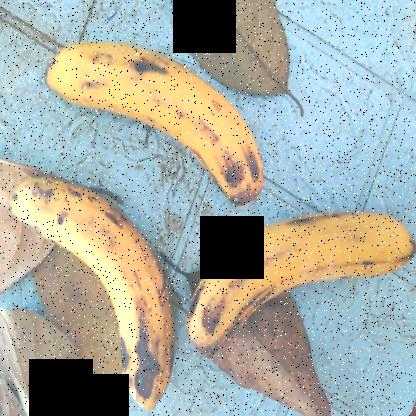overripe: (6, 168, 172, 415)
ripe: (38, 25, 272, 202), (186, 208, 415, 370)
